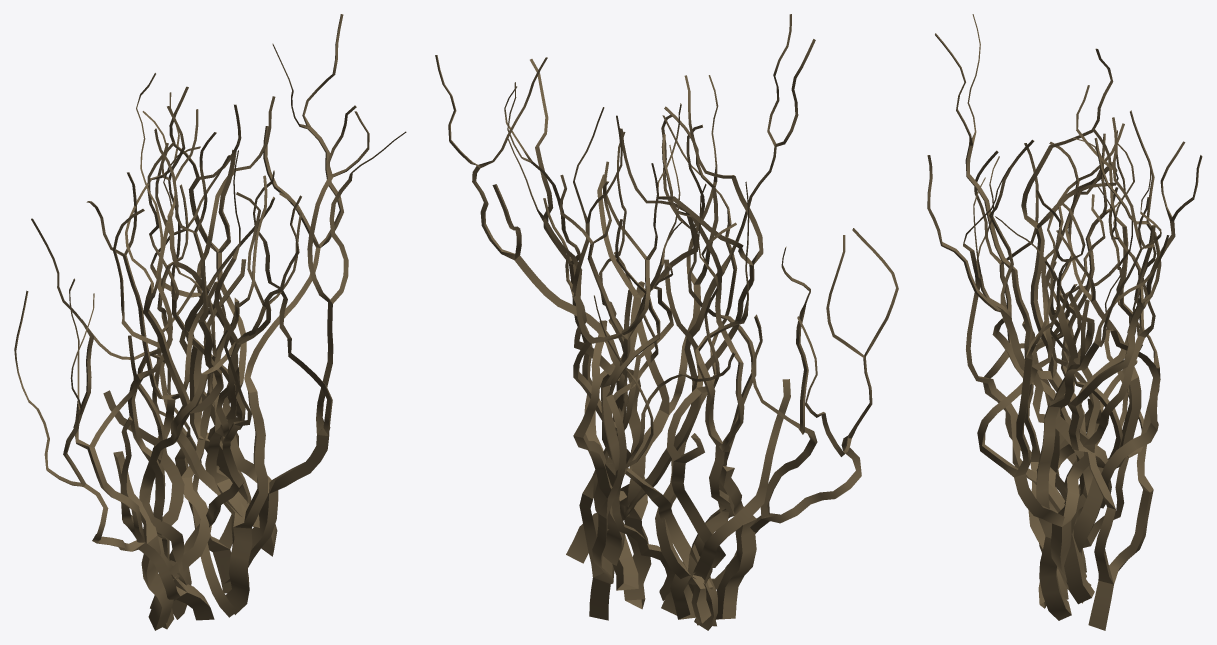
Rendered from plant_swamp_root_B_dense.fbx.
The picture shows the model from 3 angles, left to right: view 1: azimuth 30°, elevation 25°; view 2: azimuth 150°, elevation 25°; view 3: azimuth 270°, elevation 25°; orthographic projection. The views are drawn at different scales.
Parts seen in each view (by area): view 1: plant_swamp_root_B_dense; view 2: plant_swamp_root_B_dense; view 3: plant_swamp_root_B_dense.
Boxes of the visible parts, x1,y1,x2,y2 form: plant_swamp_root_B_dense: [14, 14, 406, 630]; plant_swamp_root_B_dense: [435, 14, 898, 630]; plant_swamp_root_B_dense: [927, 14, 1202, 630].
Size of the model in its own units: 553 by 807 by 367.
